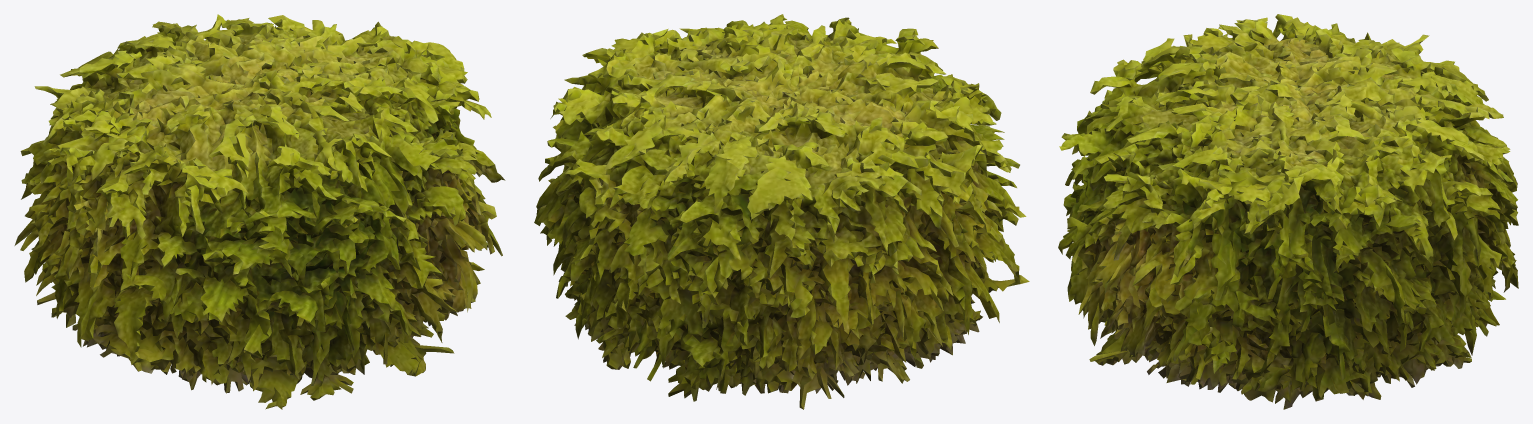
File: r7-moss-mat.glb
3 views of the same model, side by side, from view 1: azimuth 30°, elevation 25°; view 2: azimuth 150°, elevation 25°; view 3: azimuth 270°, elevation 25° (orthographic).
Parts seen in each view (by area): view 1: geometry_0; view 2: geometry_0; view 3: geometry_0.
Boxes of the visible parts, x1,y1,x2,y2 form: geometry_0: (14,14,505,409); geometry_0: (534,14,1029,409); geometry_0: (1058,14,1518,409).
Bounding box in the file's own units: 0.15 × 0.0935 × 0.15.
1 material, 1 textured.
